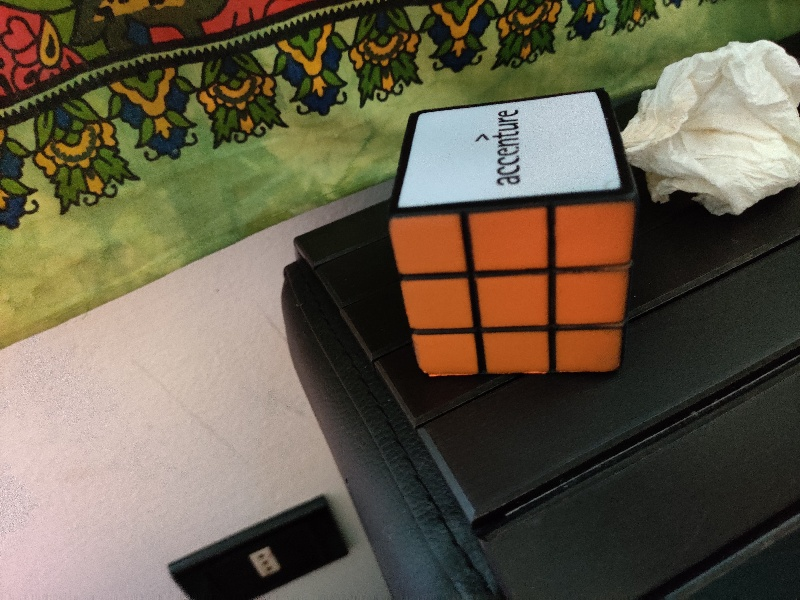rubik: (388, 89, 639, 376)
